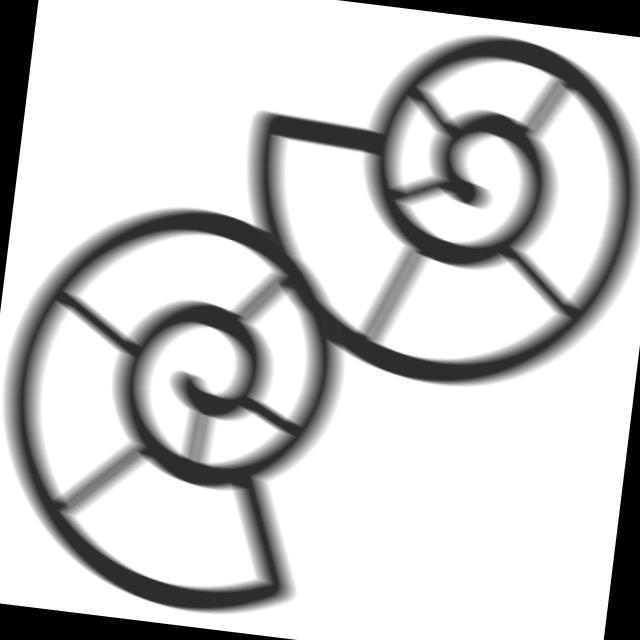fossil: (217, 1, 640, 418), (1, 183, 363, 632)
